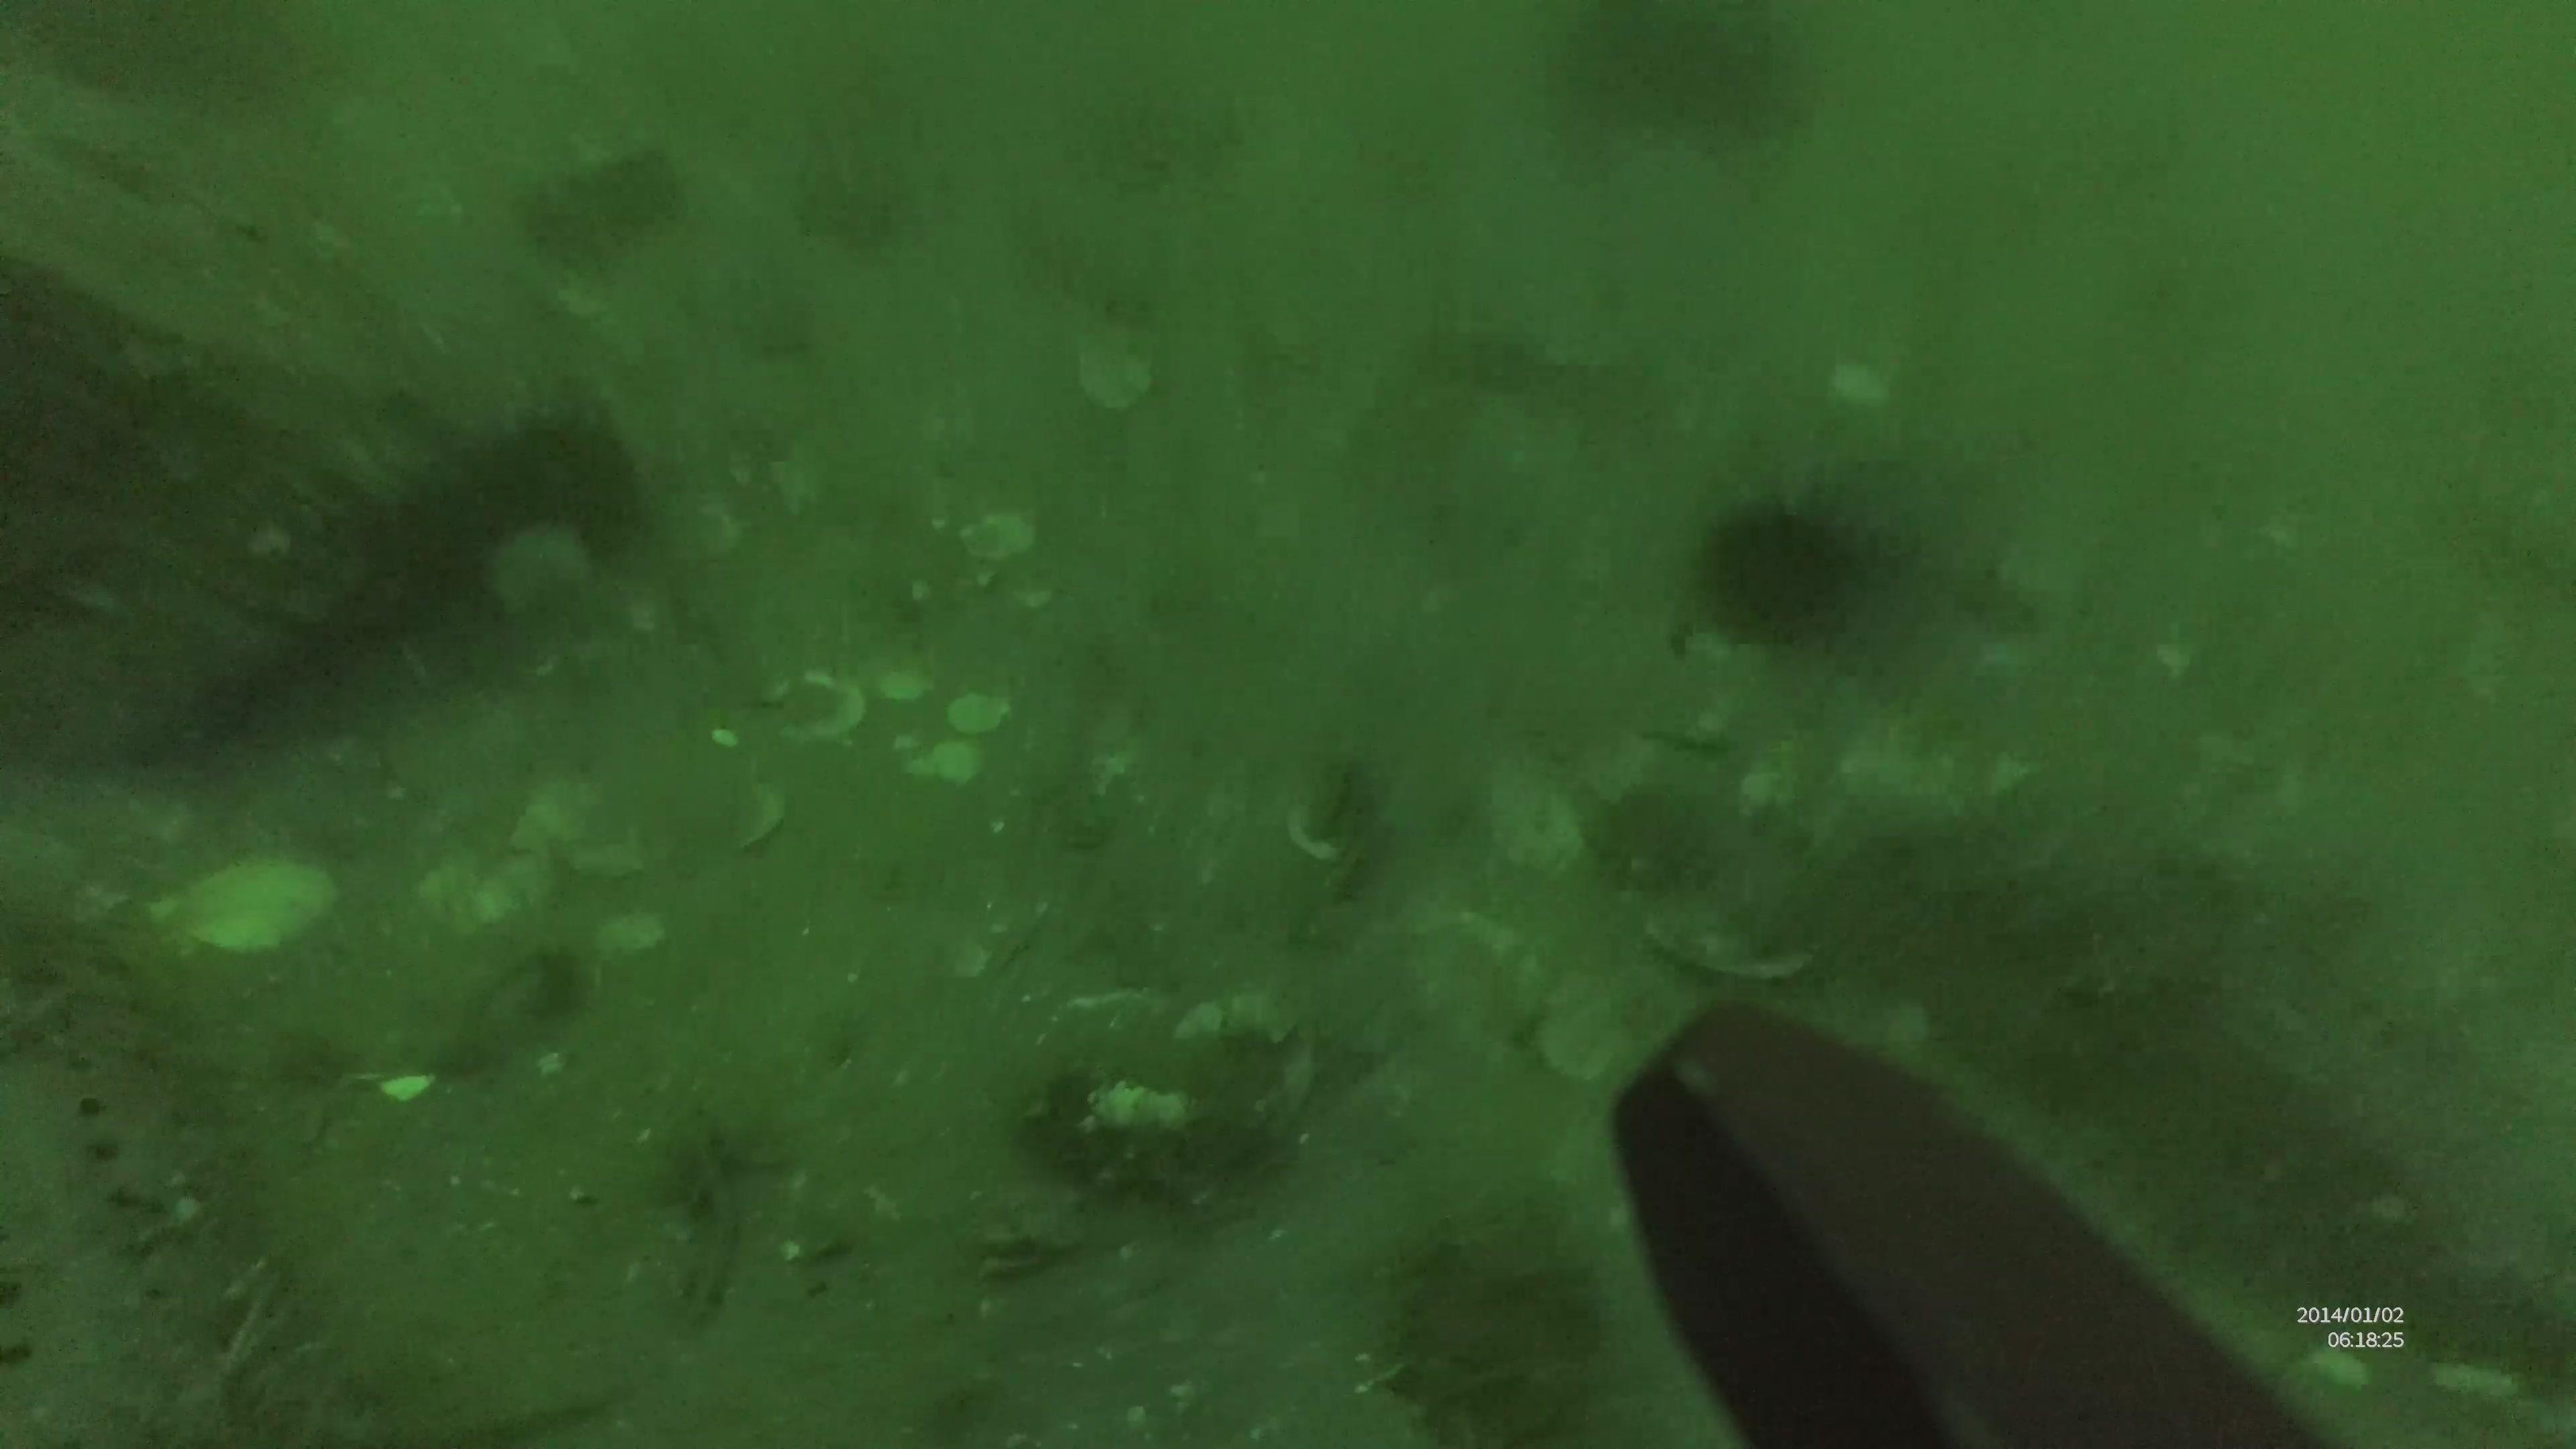echinus: (1704, 494, 1861, 656)
